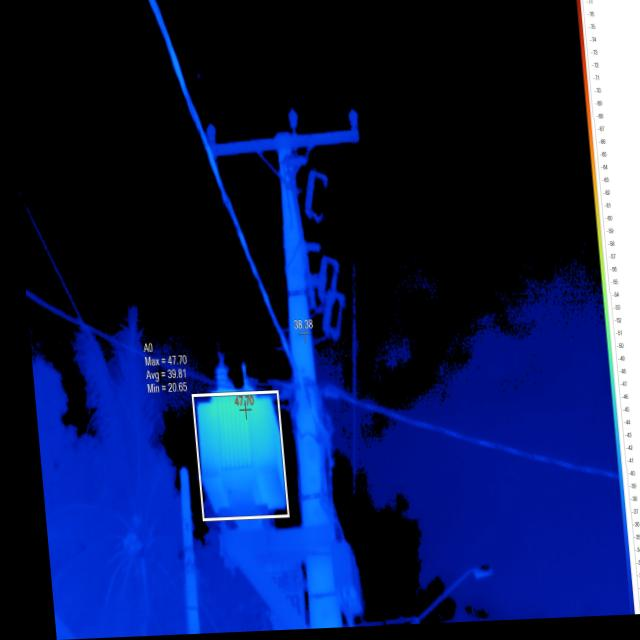Normal: (189, 379, 292, 527)
